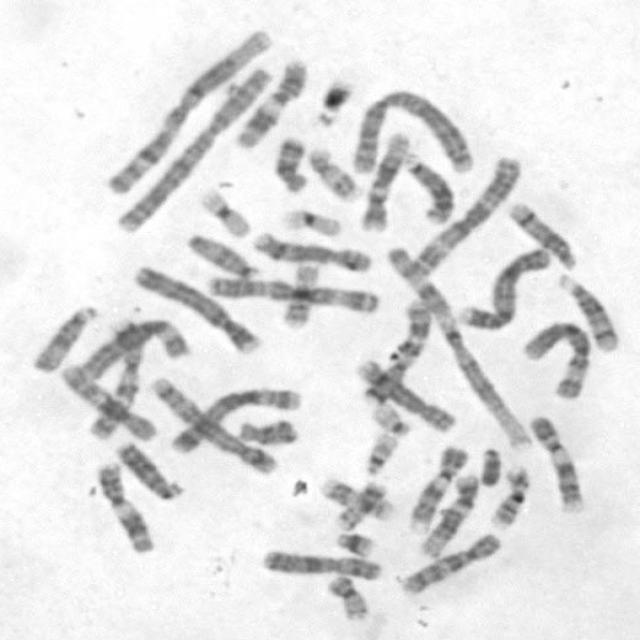A1: (381, 240, 538, 456), (99, 25, 274, 212)
A2: (115, 65, 274, 236), (345, 86, 478, 178)
A3: (403, 153, 523, 277), (202, 270, 384, 314)
B4: (130, 262, 262, 355), (453, 245, 552, 331)
B5: (148, 374, 282, 476), (167, 384, 303, 456)
C10: (57, 362, 157, 442), (393, 528, 504, 597)
C11: (230, 55, 310, 151), (92, 459, 156, 555)
C12: (355, 129, 412, 234), (416, 471, 480, 558)
C6: (68, 316, 192, 382), (517, 316, 591, 402)
C7: (358, 296, 433, 406), (89, 318, 146, 447)
C8: (353, 355, 457, 435), (248, 228, 375, 274)
C9: (404, 441, 471, 535), (526, 412, 584, 514)
D13: (112, 437, 184, 502), (399, 152, 457, 226)
D14: (554, 270, 620, 354), (504, 198, 578, 272)
D15: (27, 300, 100, 374), (184, 231, 259, 280)
E16: (276, 261, 322, 330), (485, 462, 532, 529)
E17: (316, 476, 396, 523), (304, 143, 364, 204)
E18: (270, 132, 310, 194), (233, 416, 300, 446)
F19: (196, 186, 252, 239), (278, 205, 342, 237)
F20: (330, 482, 386, 533), (323, 571, 371, 622)
G21: (312, 75, 355, 128), (332, 528, 377, 558)
G22: (360, 428, 402, 476), (368, 400, 412, 437)
X: (257, 547, 383, 582)
Y: (475, 444, 504, 488)
